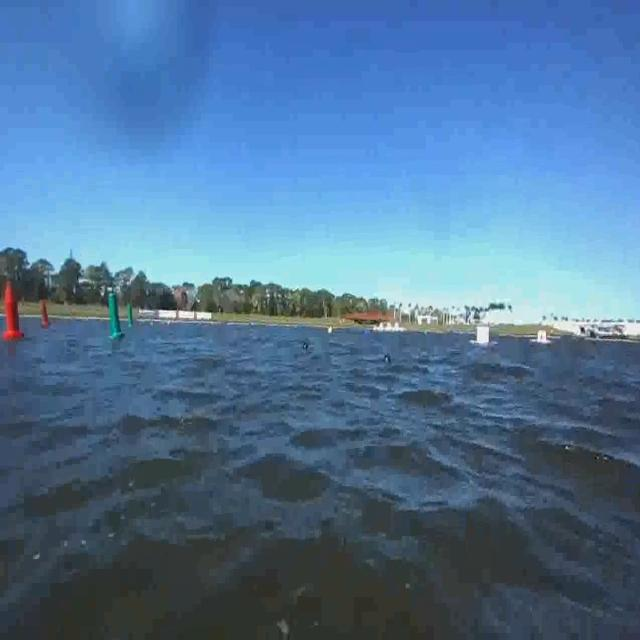black-buoy: (383, 354, 392, 366)
green-column-buoy: (106, 294, 124, 341), (128, 304, 136, 330)
red-column-buoy: (1, 280, 23, 341), (38, 298, 51, 328)
